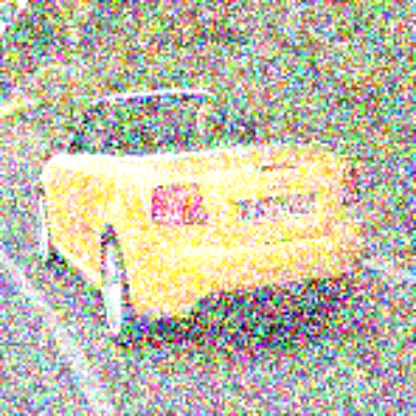Vehicle: (37, 86, 367, 354)
